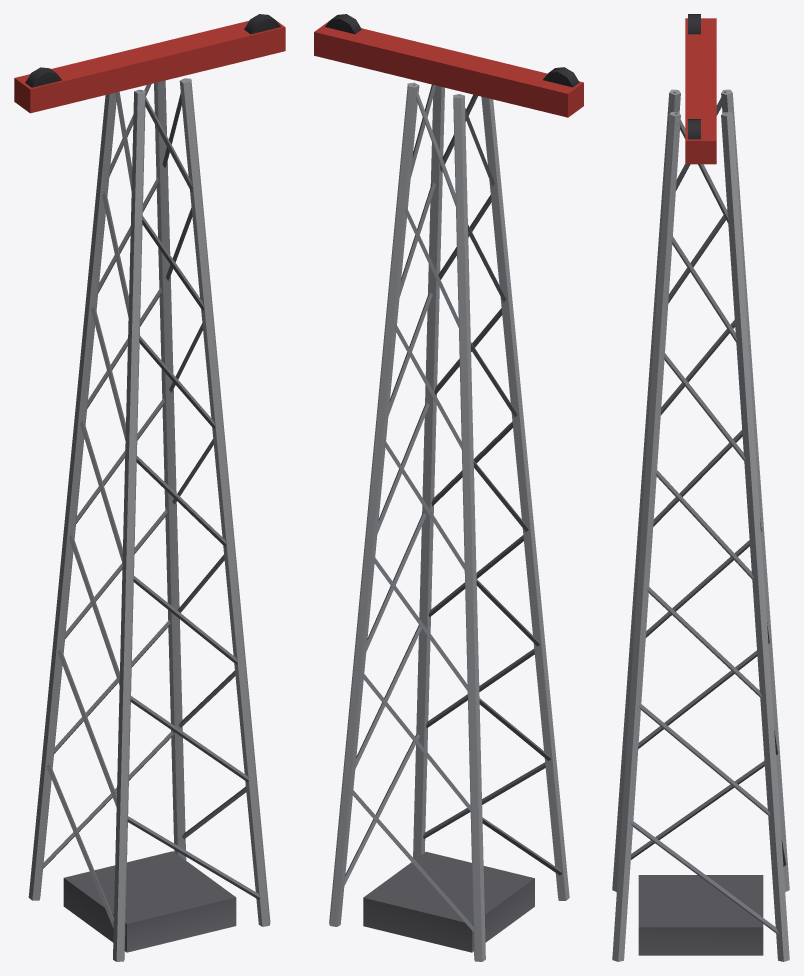
File: prop.glacier_pylon.glb
The picture shows the model from 3 angles, left to right: view 1: azimuth 30°, elevation 25°; view 2: azimuth 150°, elevation 25°; view 3: azimuth 270°, elevation 25°; orthographic projection.
Parts seen in each view (by area): view 1: glacier_pylon; view 2: glacier_pylon; view 3: glacier_pylon.
Part boxes in pixels (x1,y1,x2,y2): glacier_pylon: (14,14,285,961); glacier_pylon: (314,14,583,961); glacier_pylon: (612,14,789,961).
Bounding box in the file's own units: 5.6 × 18.35 × 3.43.
